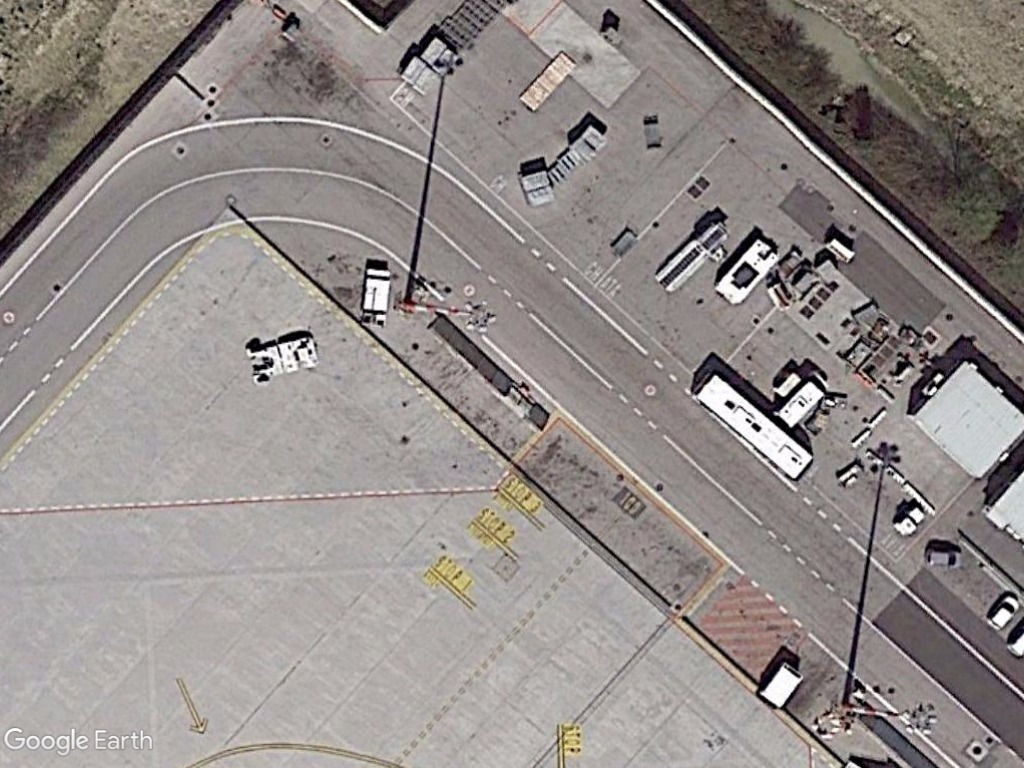bus: (690, 365, 814, 486)
car: (985, 592, 1023, 636), (923, 544, 967, 574)
pushbacktruck: (708, 238, 786, 315), (240, 332, 323, 387), (359, 260, 395, 331)
van: (773, 373, 836, 429)
